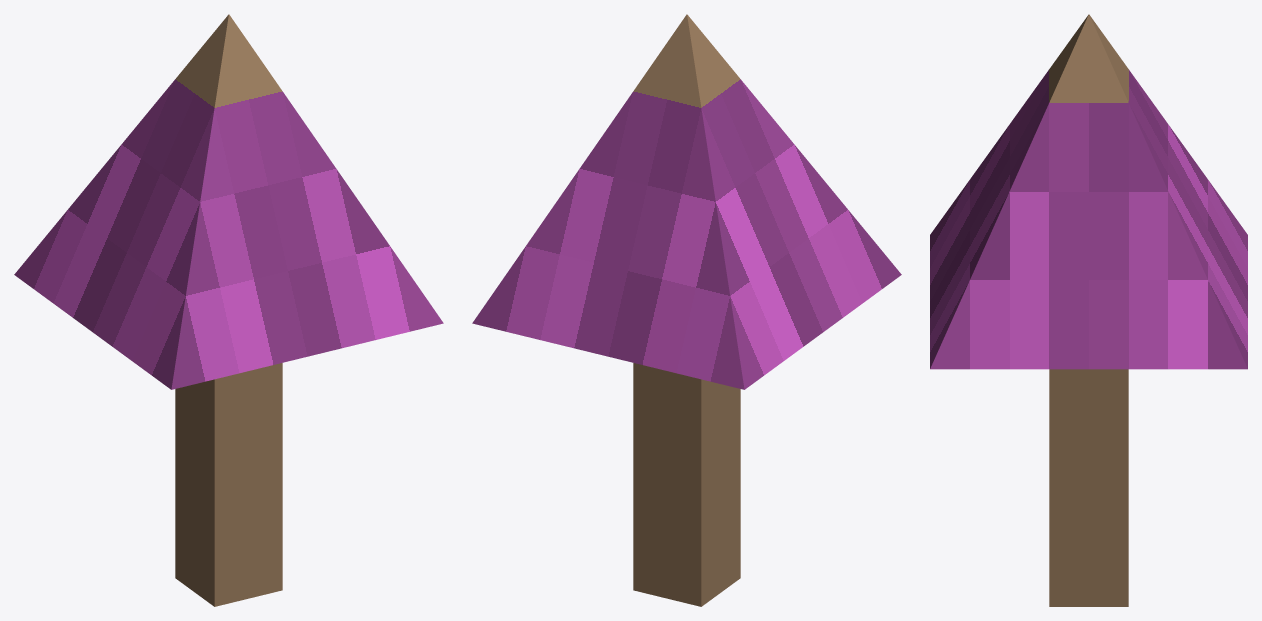
The model's file is magenta_umbrella_close_3d.obj.
3 views of the same model, side by side, from view 1: azimuth 30°, elevation 25°; view 2: azimuth 150°, elevation 25°; view 3: azimuth 270°, elevation 25° (orthographic).
Parts seen in each view (by area): view 1: Cube; view 2: Cube; view 3: Cube.
Boxes of the visible parts, x1,y1,x2,y2 form: Cube: [14, 14, 443, 606]; Cube: [472, 14, 901, 606]; Cube: [930, 14, 1247, 606].
Bounding box in the file's own units: 0.5 × 1 × 0.5.
